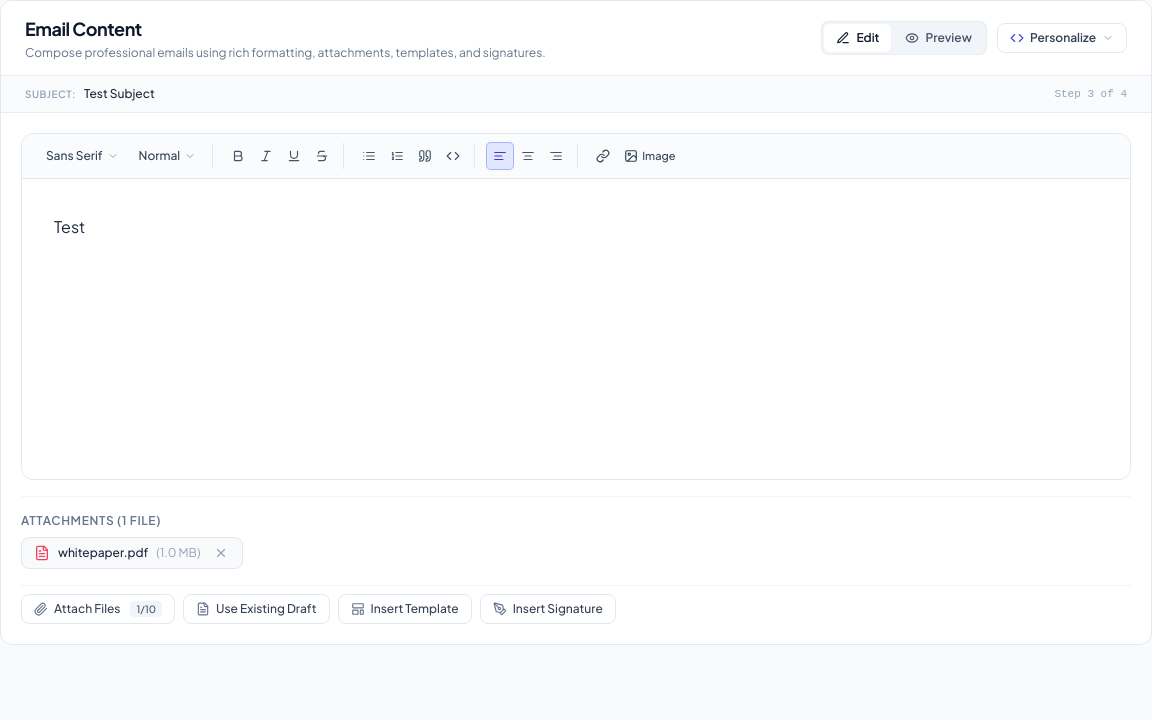
C12.2 Create Campaign Wizard Components › 6. CampaignContentStep › renders attachments summary chips in preview tab
Click the button "Preview".
click(939, 38)  # box [893, 24, 984, 52]
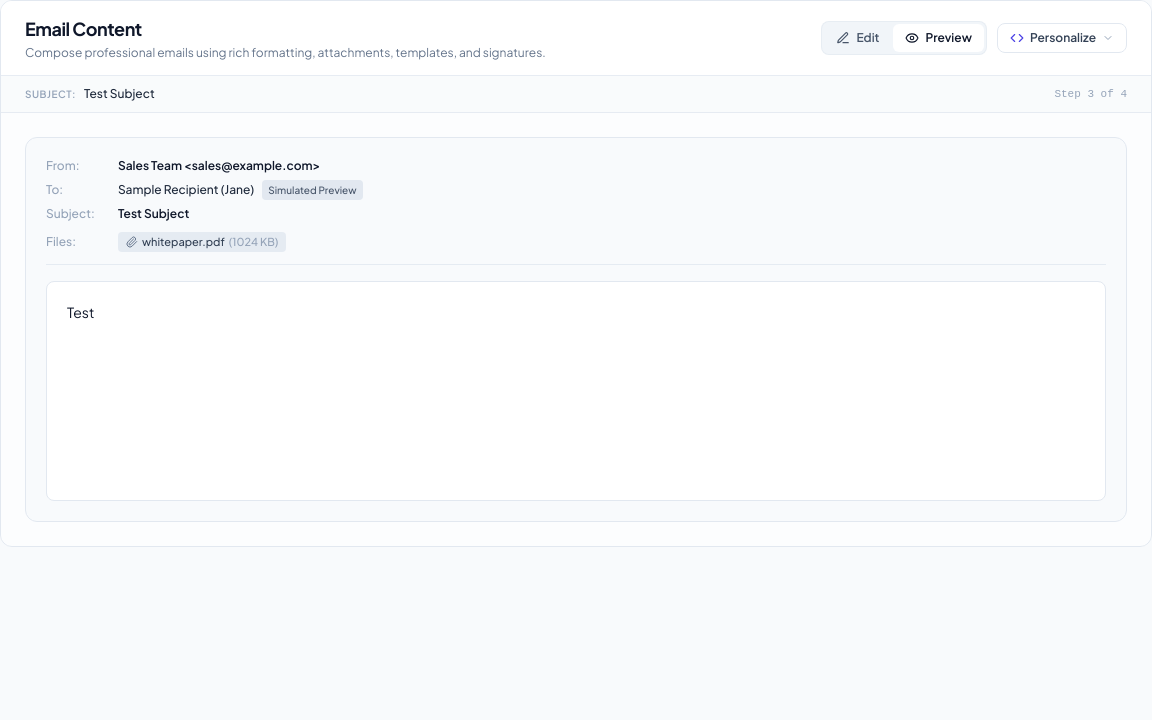
Check: the text "whitepaper.pdf" is shown, box [142, 234, 225, 250]
Check: the text "(1024 KB)" is shown, box [229, 234, 278, 250]
